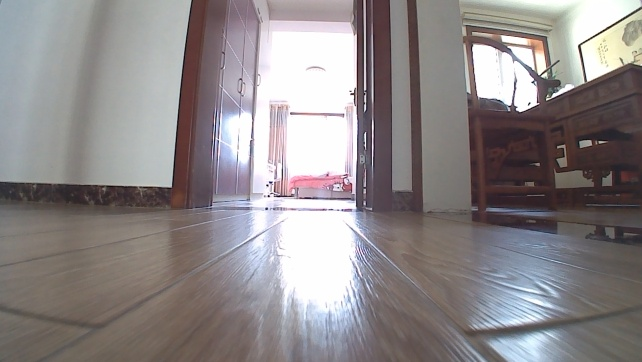bed: (286, 171, 353, 200)
